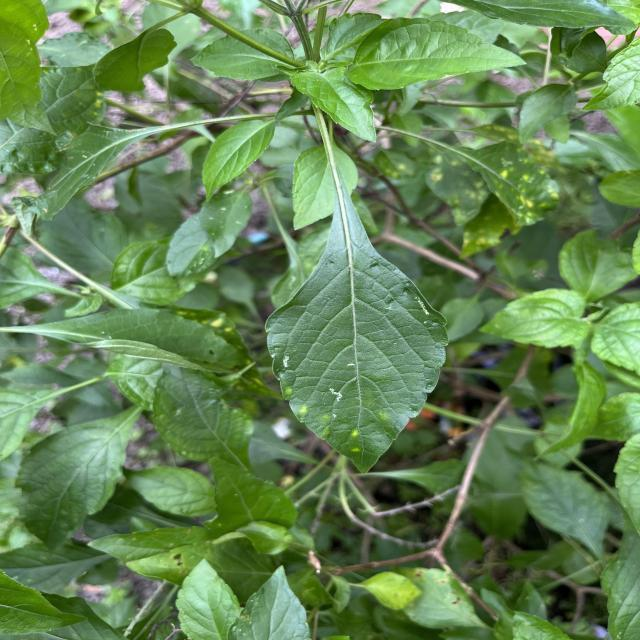Ocimum gratissimum: (262, 154, 454, 478), (344, 14, 530, 92)
